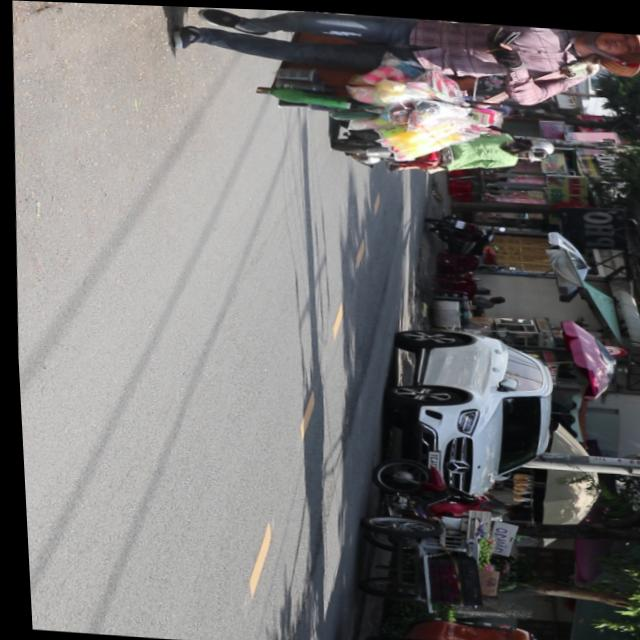helmet: (512, 129, 554, 151)
motorcyclist: (504, 140, 547, 162)
